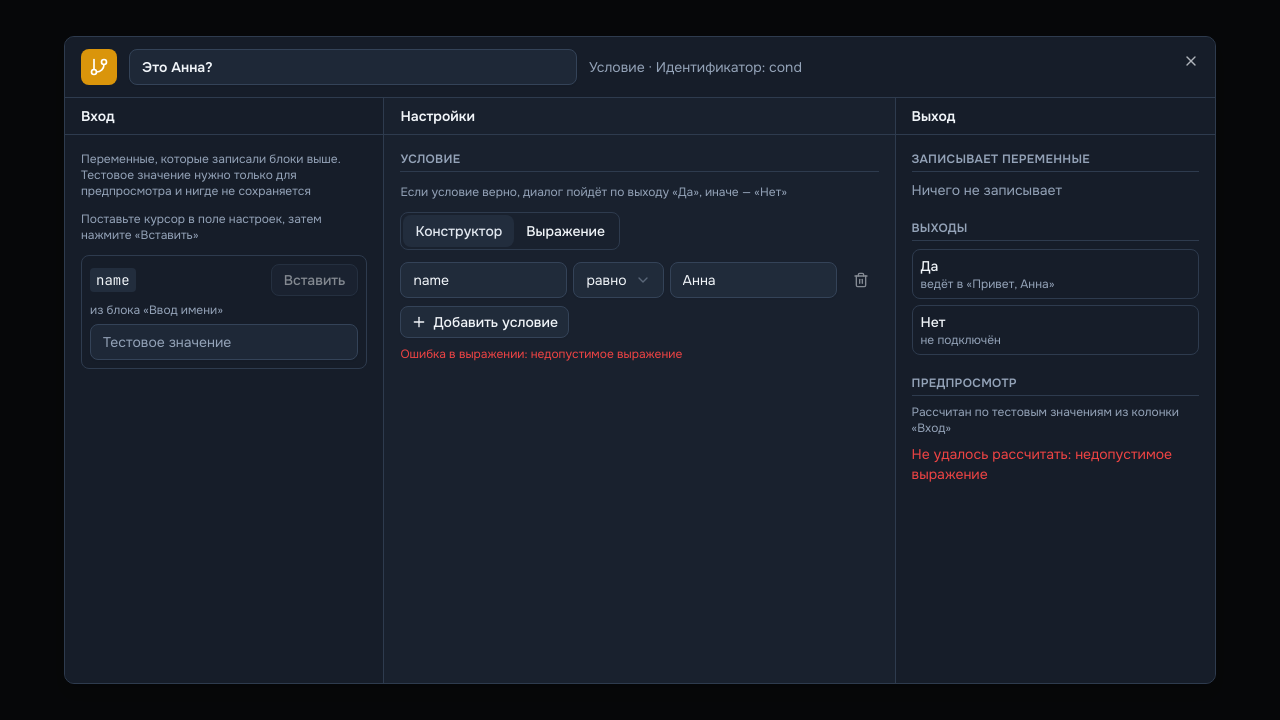
BlockDialog › конструктор условий › «Вставить» после правок строк не теряет значение и добавленную строку
Replace the text in the field named "Переменная 1" with "zzz": (484, 280) [400, 262, 567, 298]
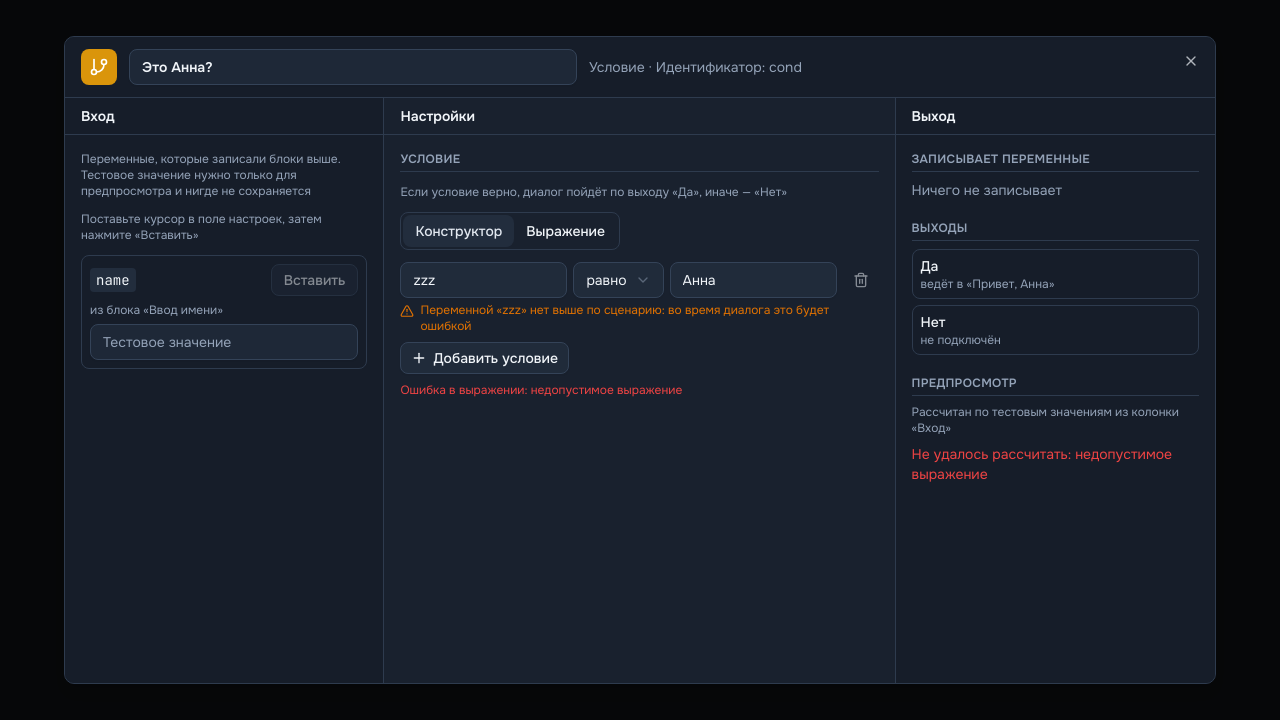
Focus the field named "Переменная 1": (484, 280) [400, 262, 567, 298]
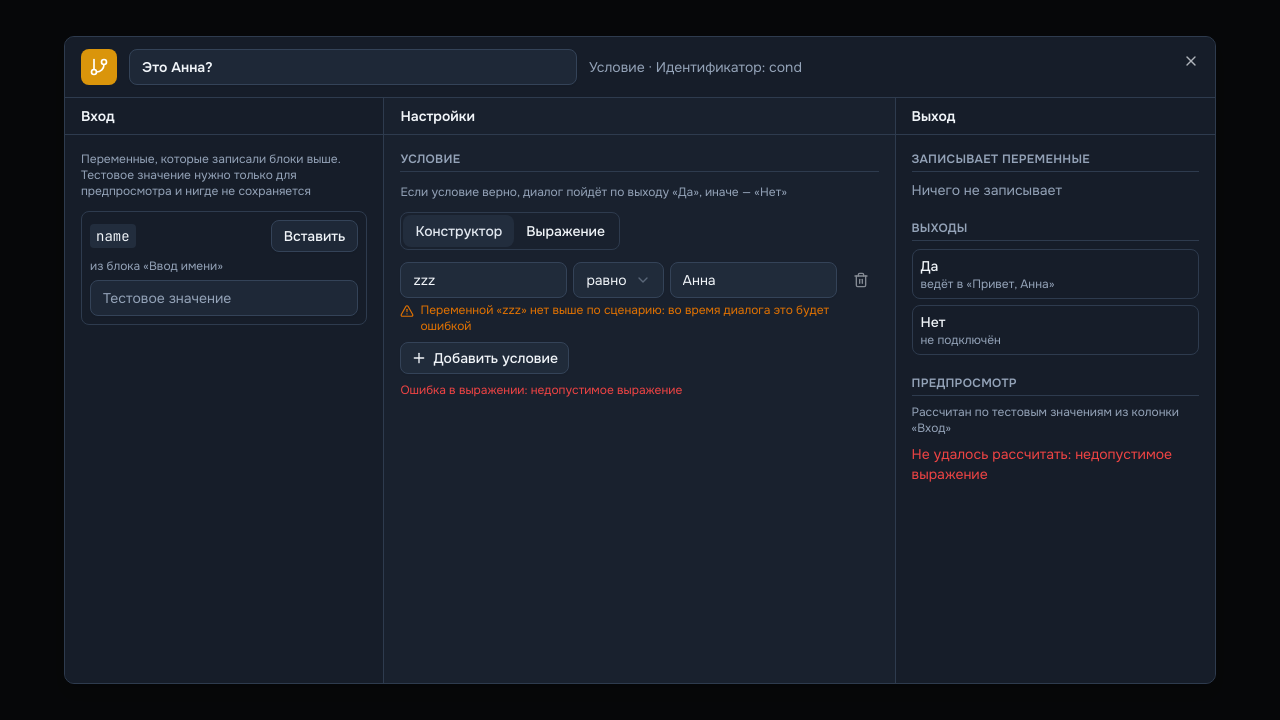
Replace the text in the field named "Значение 1" with "5": (753, 280) [670, 262, 836, 298]
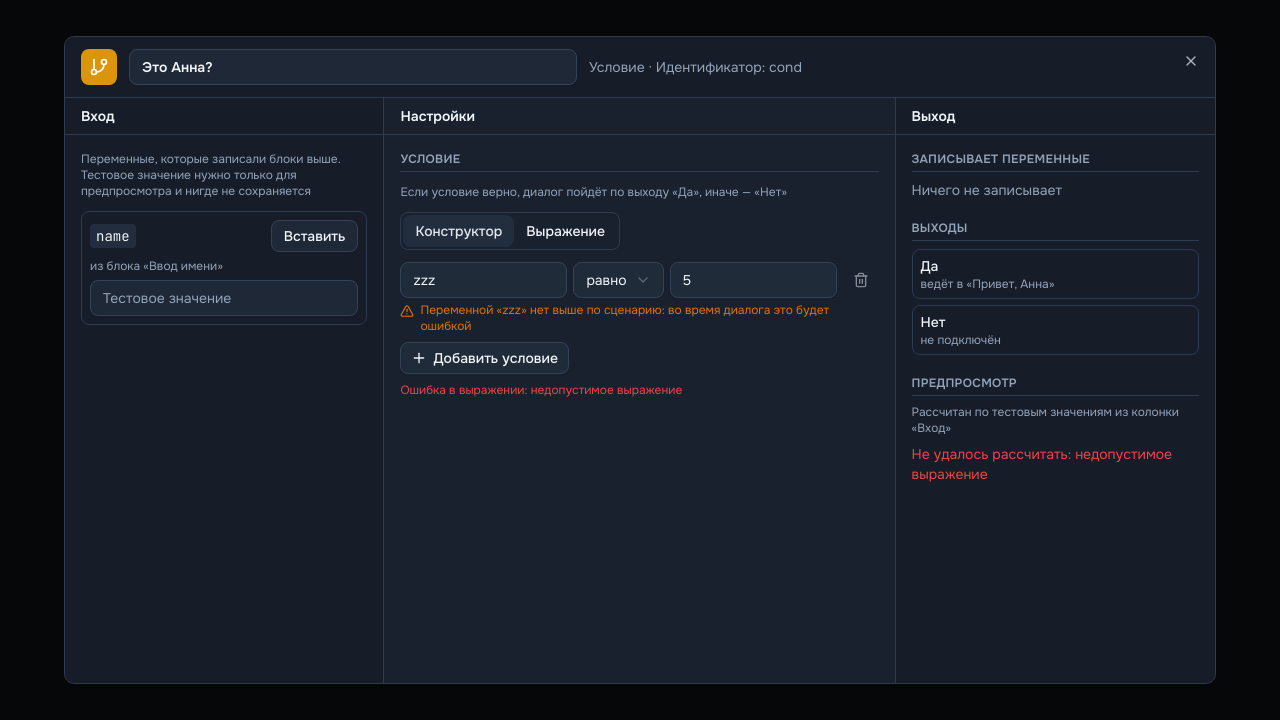
Click the button "Добавить условие": (485, 358) [400, 342, 569, 374]
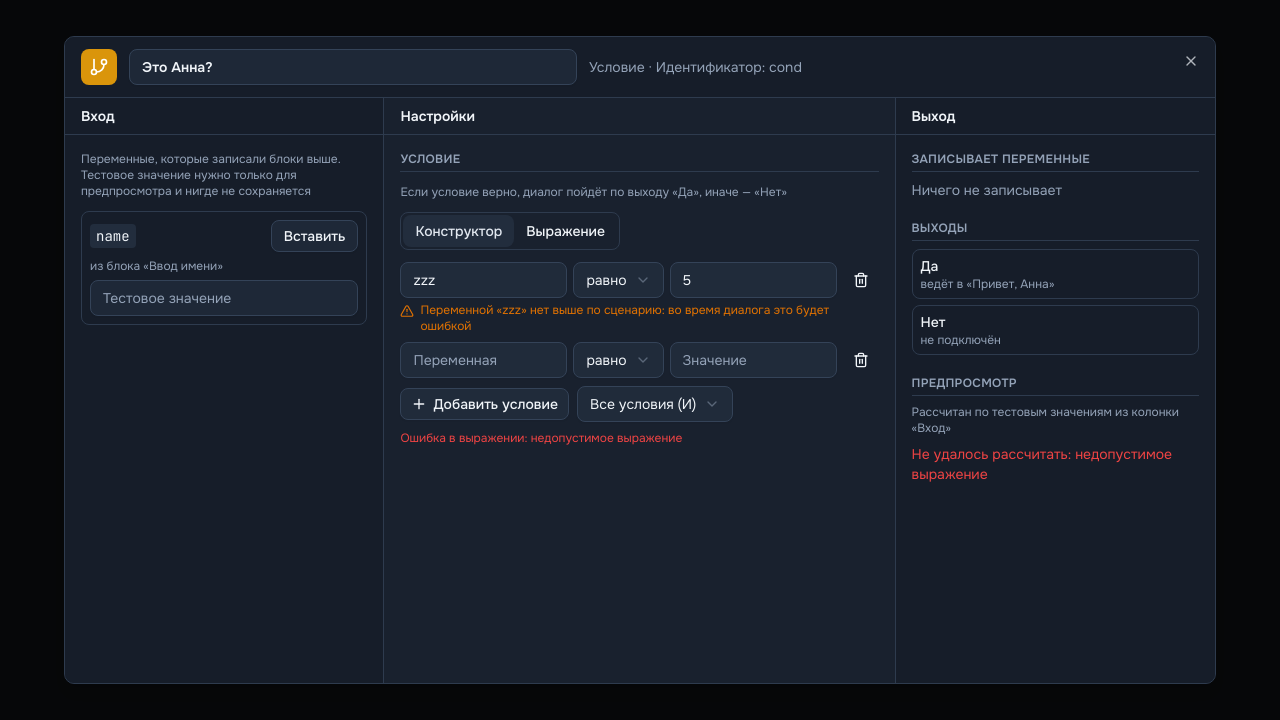
Click the button "Вставить": (314, 236) [271, 220, 358, 252]
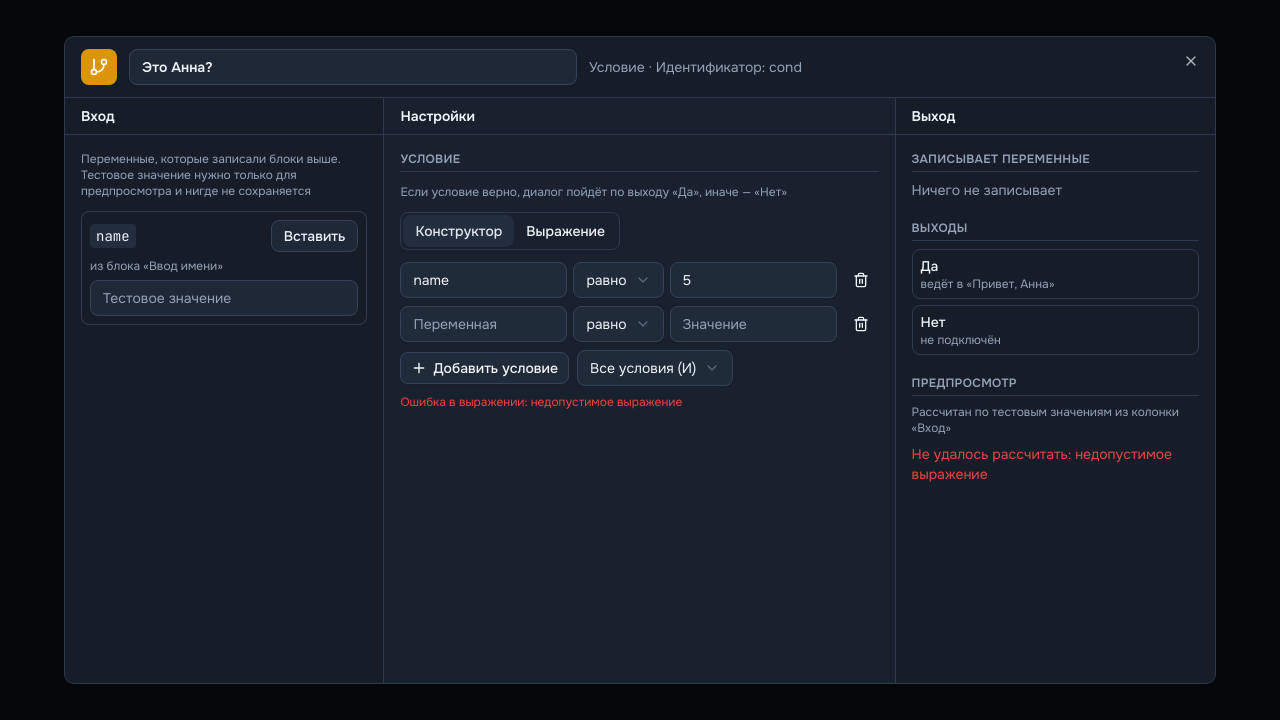
Result: the number of elements with test id "condition-row" is 2 at [400, 262, 878, 298]; [400, 306, 878, 342]
Result: the field named "Переменная 1" holds "name" at [400, 262, 567, 298]
